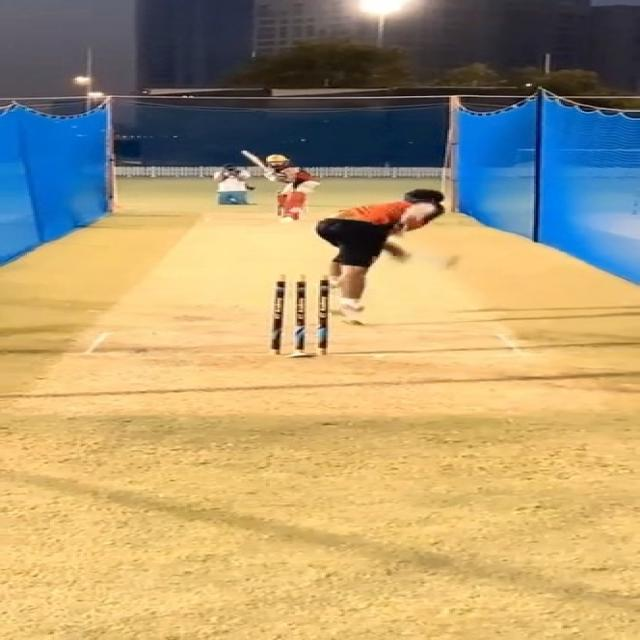batsman: (240, 148, 325, 224)
